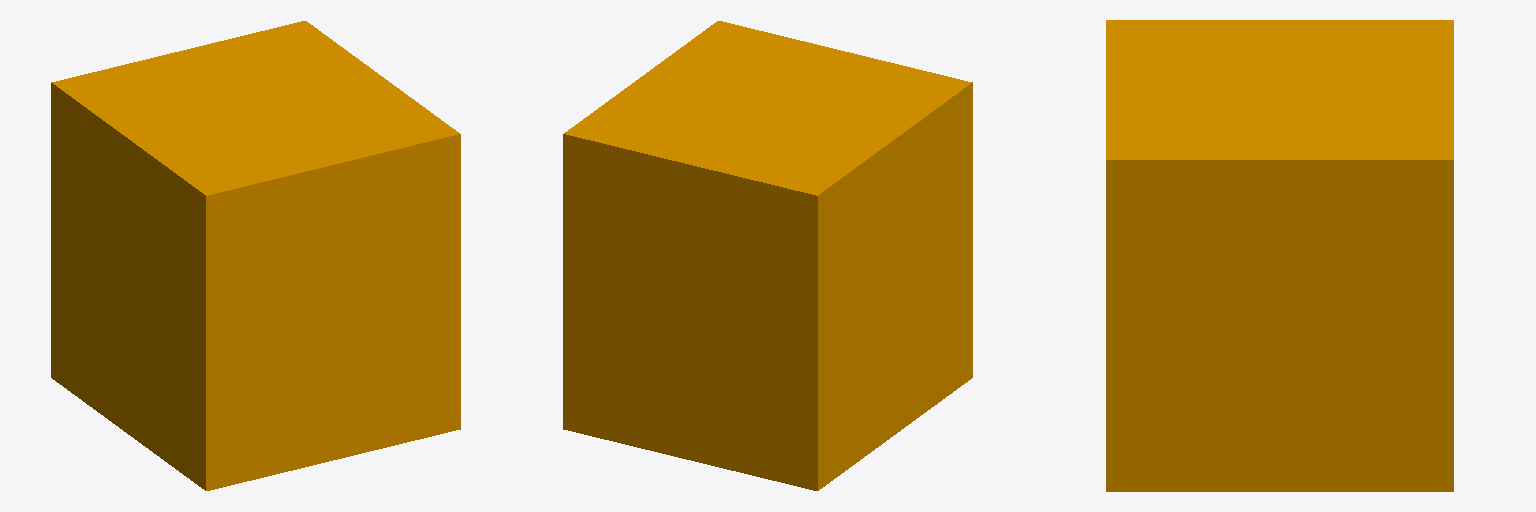
The robot description file, URDF, robot "object":
<robot name="object">
  <link name="object">
    <visual>
      <origin xyz="0 0 0" />
      <geometry>
        <box size="0.07200000000000001 0.07600000000000001 0.08" />
      </geometry>
    </visual>

    <collision>
      <origin xyz="0 0 0" />
      <geometry>
        <box size="0.07200000000000001 0.07600000000000001 0.08" />
      </geometry>
    </collision>

    <inertial>
      <mass value="0.05" />
      <inertia ixx="0.0001" ixy="0.0" ixz="0.0" iyy="0.0001" iyz="0.0" izz="0.0001" />
    </inertial>
  </link>
</robot>

--- Render facts (derived) ---
The picture shows the robot from 3 angles, left to right: view 1: azimuth 30°, elevation 25°; view 2: azimuth 150°, elevation 25°; view 3: azimuth 270°, elevation 25°; orthographic projection.
Model object with 1 links and 0 joints (none), rooted at object, posed all joints at 0.
Links seen in each view (by area): view 1: object; view 2: object; view 3: object.
Boxes of the visible links, left/top/right/bottom form: object: left=51, top=21, right=460, bottom=490; object: left=563, top=21, right=972, bottom=490; object: left=1106, top=20, right=1453, bottom=491.
Bounding box of the posed robot: 0.072 × 0.076 × 0.08 m (x, y, z).
Geometry: primitives only (box / cylinder / sphere), no mesh files.